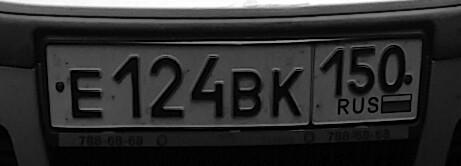license-plateSW: (39, 41, 431, 133)
